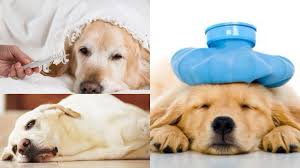dog: (169, 78, 293, 156), (54, 20, 146, 90), (1, 105, 85, 162)
